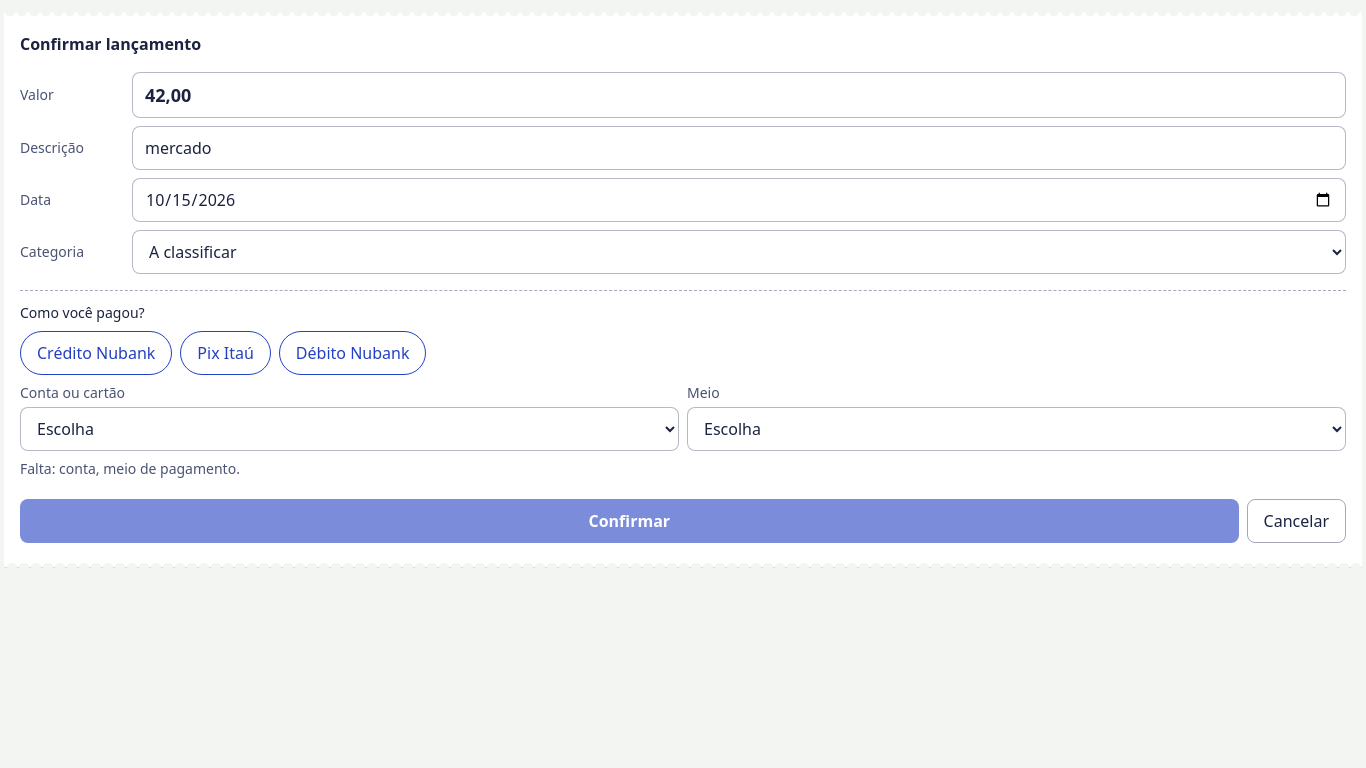
Scenario: choosing the card shortcut fills card and hides method
Expected: the dropdown labelled "Meio" is shown, [687,407,1346,451]
Step 1. Click the button "Crédito Nubank" → click(96, 353), box [20,331,172,375]
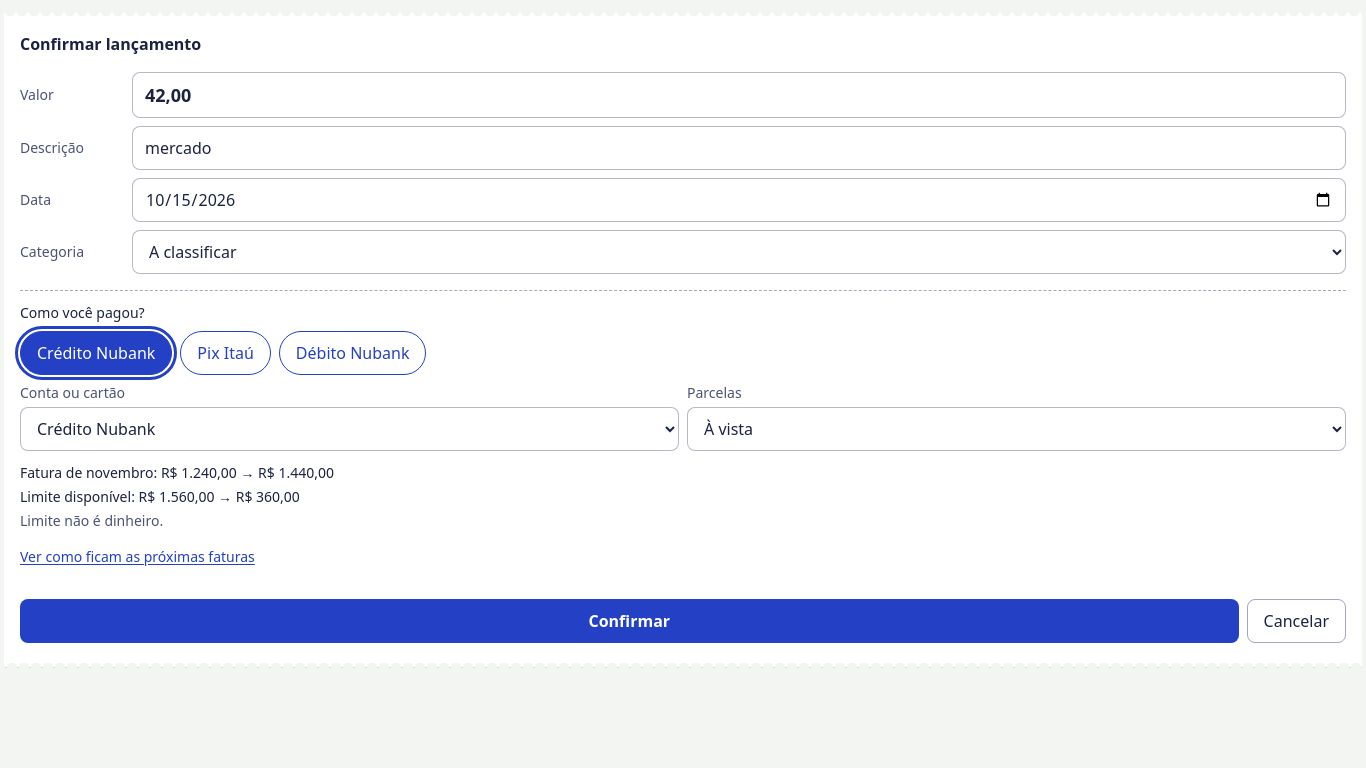
Now the label labelled "Meio" is gone
Now the dropdown labelled "Parcelas" shows "À vista", box [687,407,1346,451]
Now the dropdown labelled "Conta ou cartão" shows "Crédito Nubank", box [20,407,679,451]
